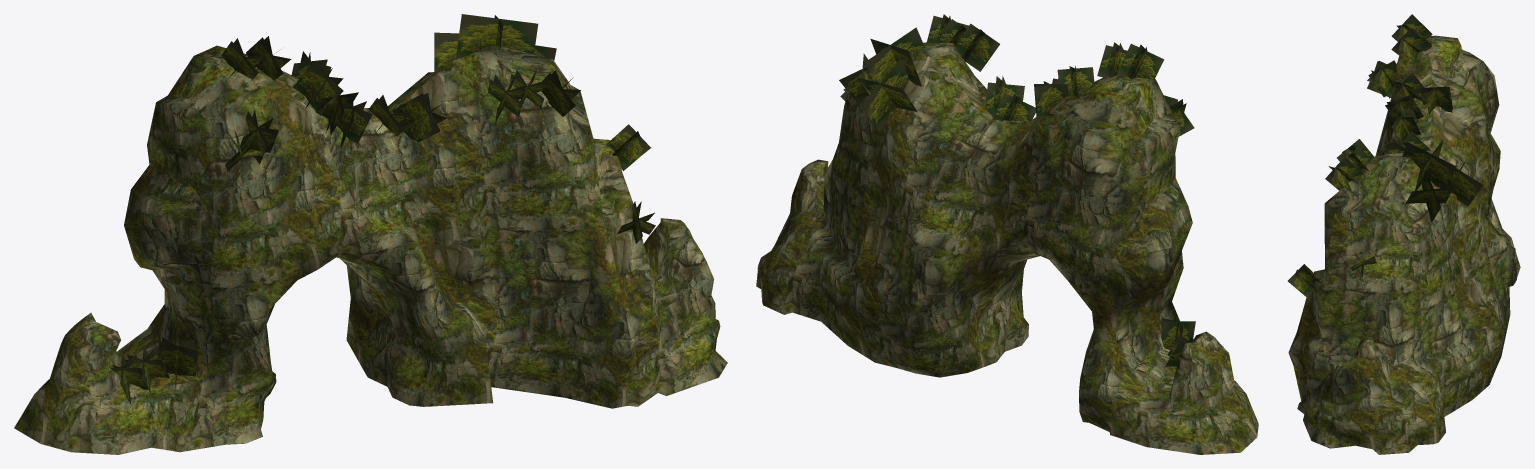
The model's file is shanti_21.fbx.
3 renders of one model, left to right at view 1: azimuth 30°, elevation 25°; view 2: azimuth 150°, elevation 25°; view 3: azimuth 270°, elevation 25°, orthographic. The views are drawn at different scales.
Parts seen in each view (by area): view 1: shanti_21; view 2: shanti_21; view 3: shanti_21.
Part boxes in pixels (box(x1,y1,x2,y2)): shanti_21: box(14, 14, 727, 454); shanti_21: box(756, 14, 1258, 454); shanti_21: box(1287, 14, 1520, 454).
Size of what is drawn, in the model's own units: 9161 by 5484 by 4129.
